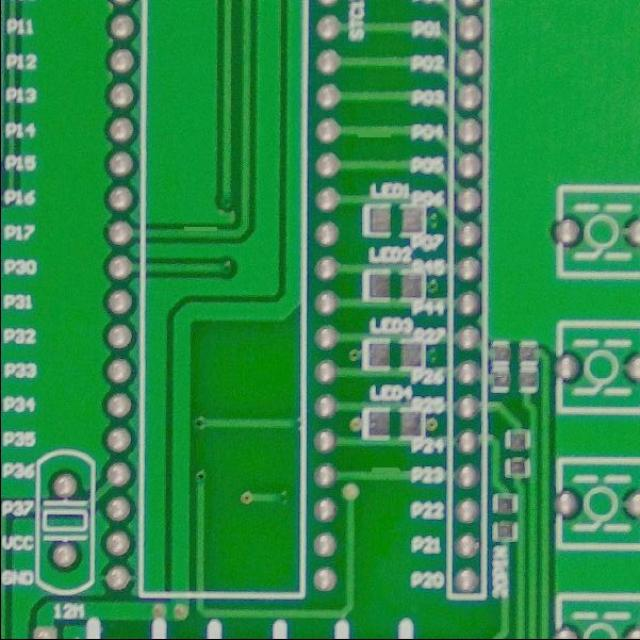Spur: (349, 118, 398, 143), (176, 221, 222, 243), (364, 461, 406, 485)
